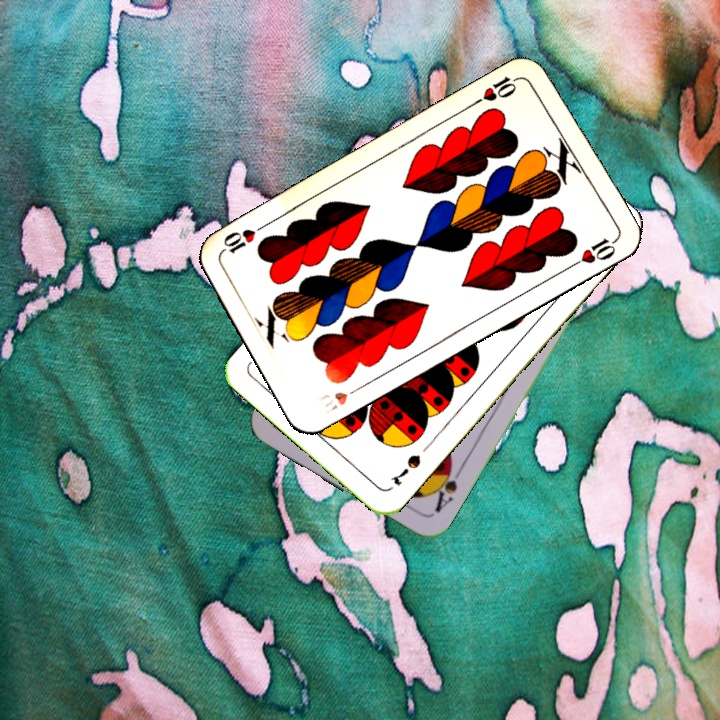H10: (470, 71, 524, 108), (314, 381, 366, 417)
S7: (386, 450, 424, 488)
SA: (427, 458, 466, 515)
